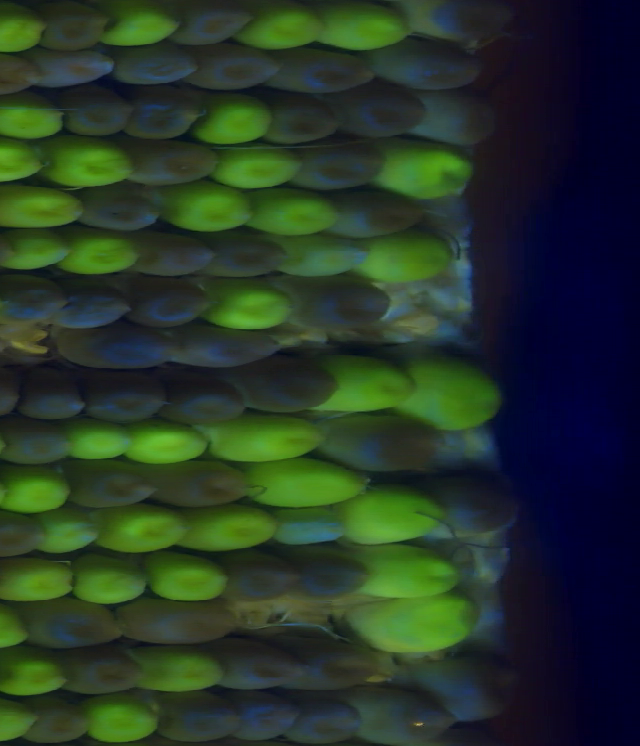fluorescent: (248, 460, 373, 507), (352, 547, 467, 598), (348, 602, 470, 650), (368, 142, 464, 201), (426, 359, 500, 431), (213, 418, 325, 462), (235, 191, 338, 237), (42, 133, 123, 191), (333, 355, 413, 413), (265, 236, 373, 278), (204, 284, 293, 334), (100, 505, 188, 553), (326, 2, 413, 50), (62, 553, 142, 604), (377, 237, 455, 288), (80, 695, 157, 746), (142, 647, 226, 692), (0, 184, 87, 227), (188, 507, 274, 550), (248, 7, 329, 52), (359, 498, 439, 543), (202, 91, 271, 143), (110, 5, 186, 52), (220, 143, 300, 187), (148, 556, 226, 601), (2, 224, 73, 272), (0, 468, 74, 514), (129, 423, 213, 462), (33, 511, 102, 556), (0, 98, 70, 142), (0, 643, 61, 691), (174, 182, 233, 231), (2, 563, 75, 597), (70, 426, 136, 463), (71, 240, 132, 275), (0, 4, 42, 53), (0, 145, 42, 187), (0, 605, 35, 645), (0, 700, 33, 739)
nonfluorescent: (278, 536, 370, 604), (351, 692, 463, 746), (339, 416, 442, 472), (438, 468, 525, 531), (284, 626, 371, 689), (419, 659, 512, 716), (390, 34, 486, 89), (112, 595, 238, 636), (17, 597, 123, 645), (155, 376, 254, 427), (261, 88, 346, 146), (46, 326, 171, 365), (251, 360, 336, 417), (297, 282, 390, 334), (280, 47, 377, 95), (422, 1, 517, 50), (344, 88, 425, 143), (299, 146, 388, 195), (170, 329, 281, 368), (36, 2, 115, 56), (162, 689, 242, 742), (216, 549, 287, 607), (423, 89, 494, 146), (286, 695, 362, 746), (133, 287, 222, 330), (228, 685, 297, 740), (133, 143, 223, 185), (81, 463, 164, 507), (225, 634, 287, 692), (165, 465, 249, 507), (113, 49, 202, 88), (22, 698, 94, 746), (139, 233, 213, 279), (67, 84, 138, 131), (90, 192, 171, 233), (194, 45, 277, 85), (180, 4, 257, 47), (213, 231, 281, 279), (0, 276, 64, 327), (68, 646, 149, 685), (342, 195, 426, 231), (0, 426, 80, 463), (36, 50, 113, 88), (136, 100, 200, 145), (19, 378, 87, 418), (65, 281, 123, 327), (87, 372, 155, 411), (0, 514, 51, 558), (0, 55, 36, 101)
